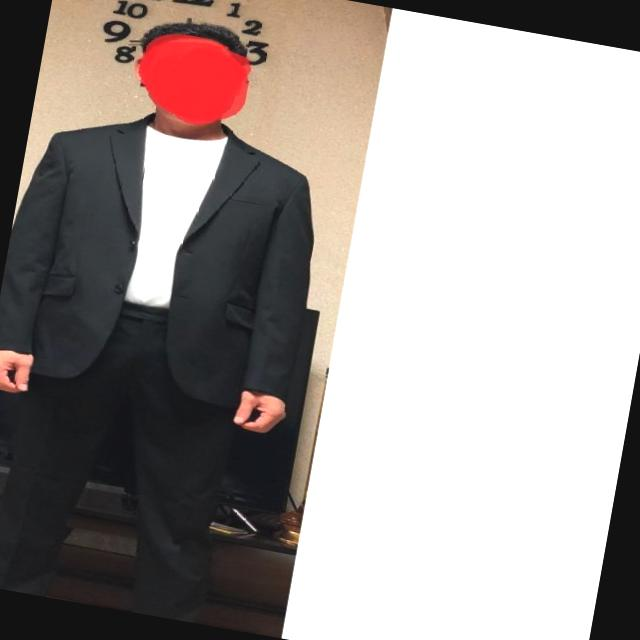blazer: (0, 86, 339, 417)
slacks: (0, 286, 264, 626)
